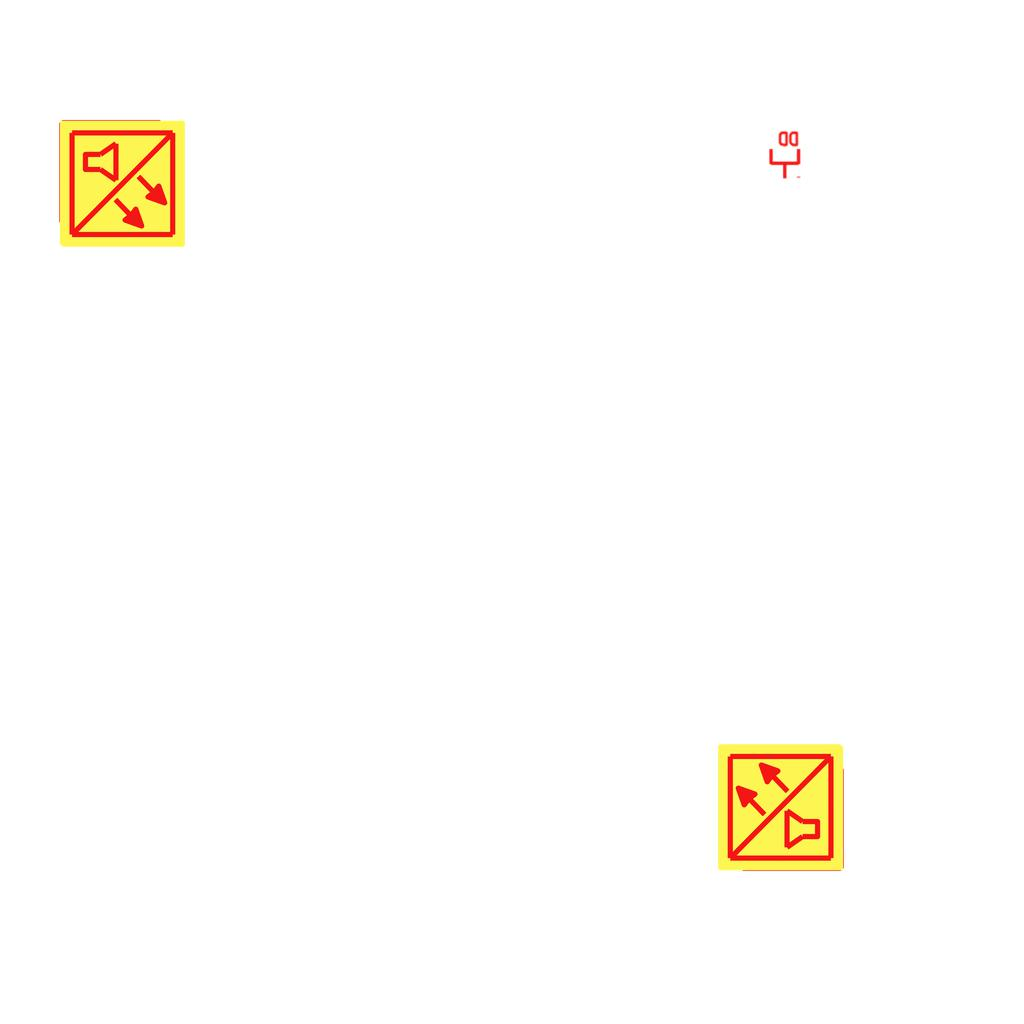Datenanschluss_zweifach: (767, 129, 801, 180)
OKW_Multisensormelder_(Kombination_optischer_Rauch-Kahlenmonoxid_Waerme-Melder): (715, 741, 847, 873), (56, 118, 188, 250)
